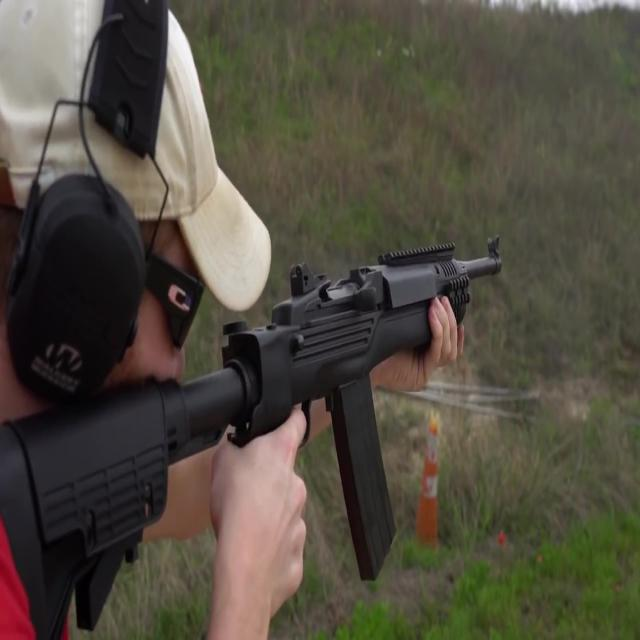Weapon: (0, 175, 552, 639)
